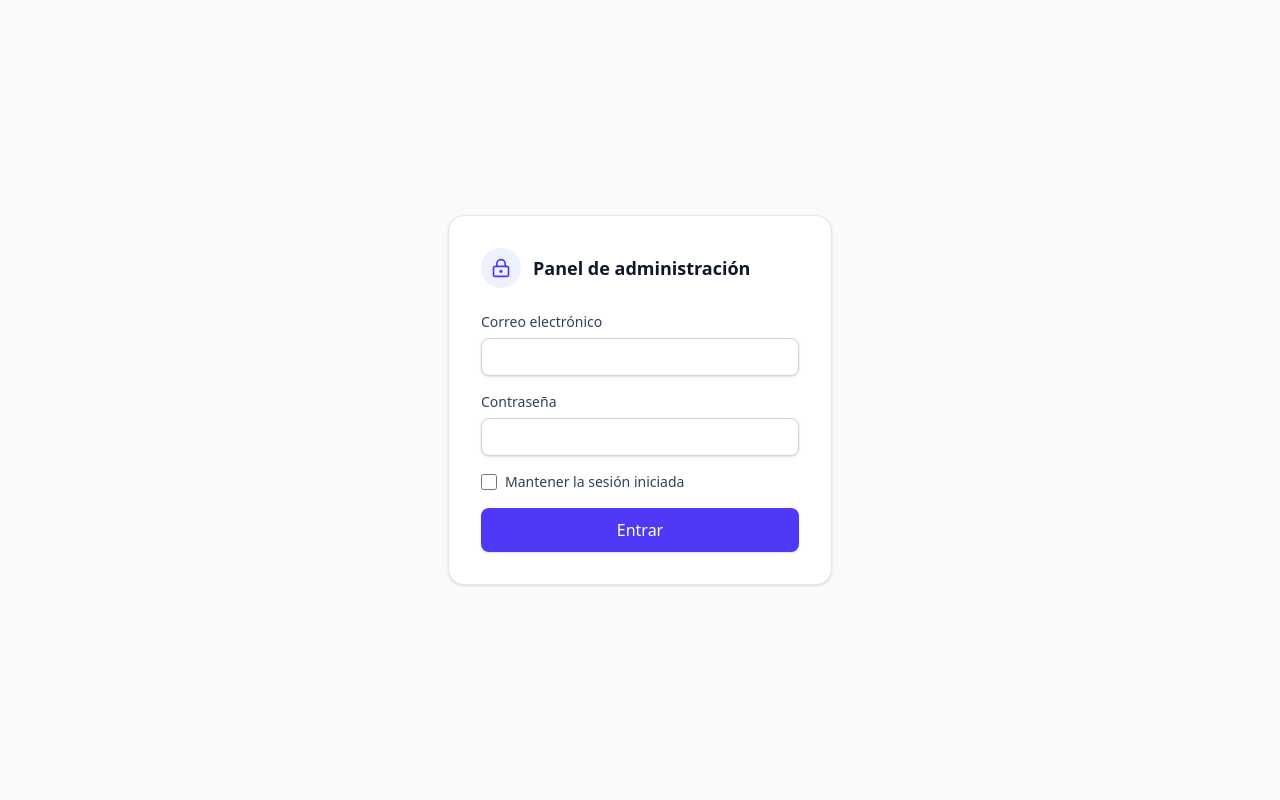
admin panel › signs in and returns to the requested page
Type "admin@example.test" into the field labelled "Correo electrónico" at [640, 357], box [481,338,799,376]
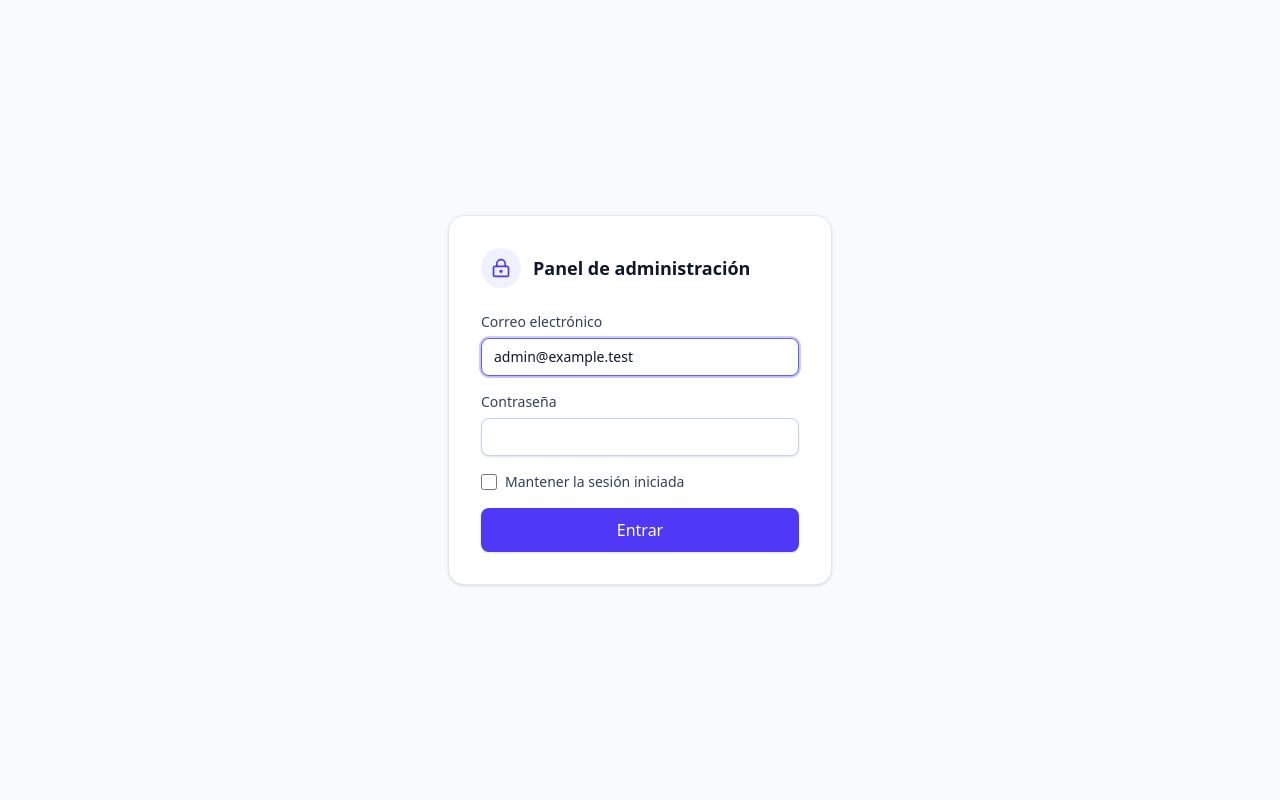
Type "secret" into the password field labelled "Contraseña" at [640, 437], box [481,418,799,456]
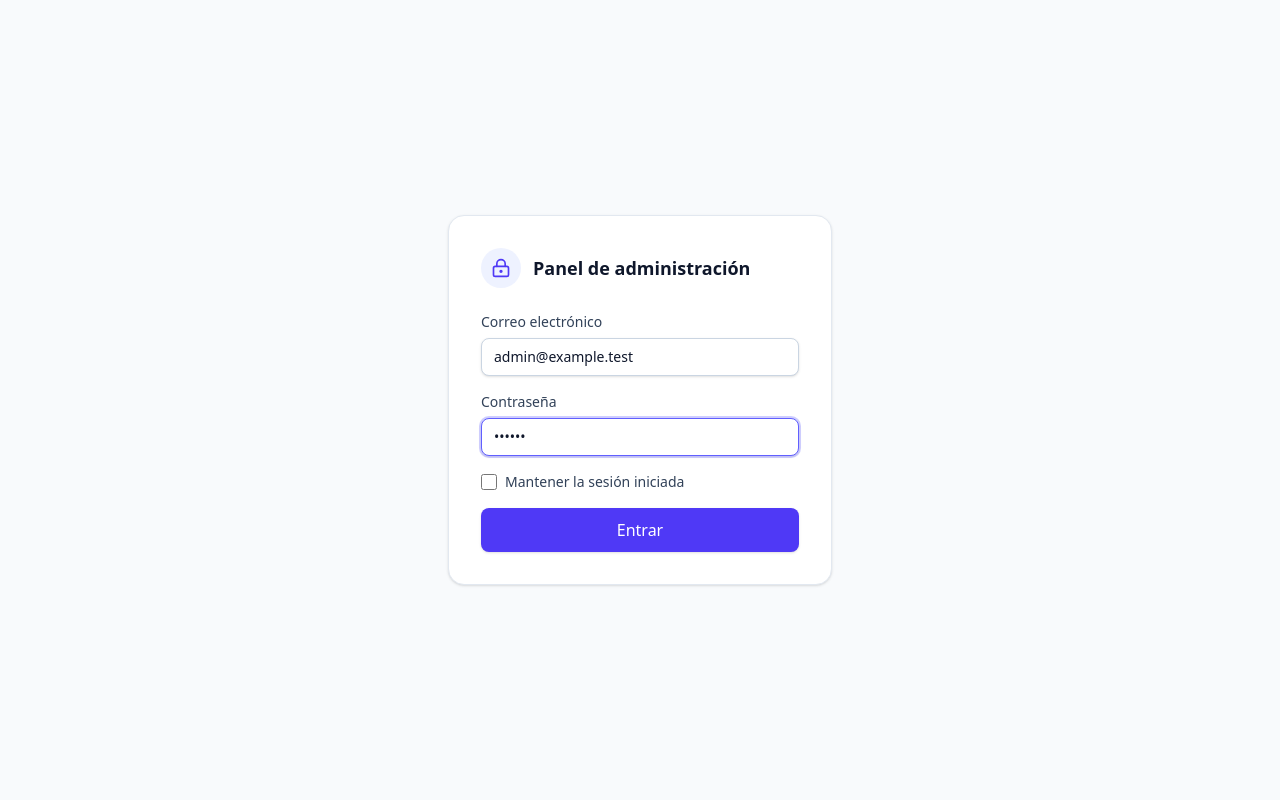
Click the button "Entrar" at [640, 530], box [481,508,799,552]
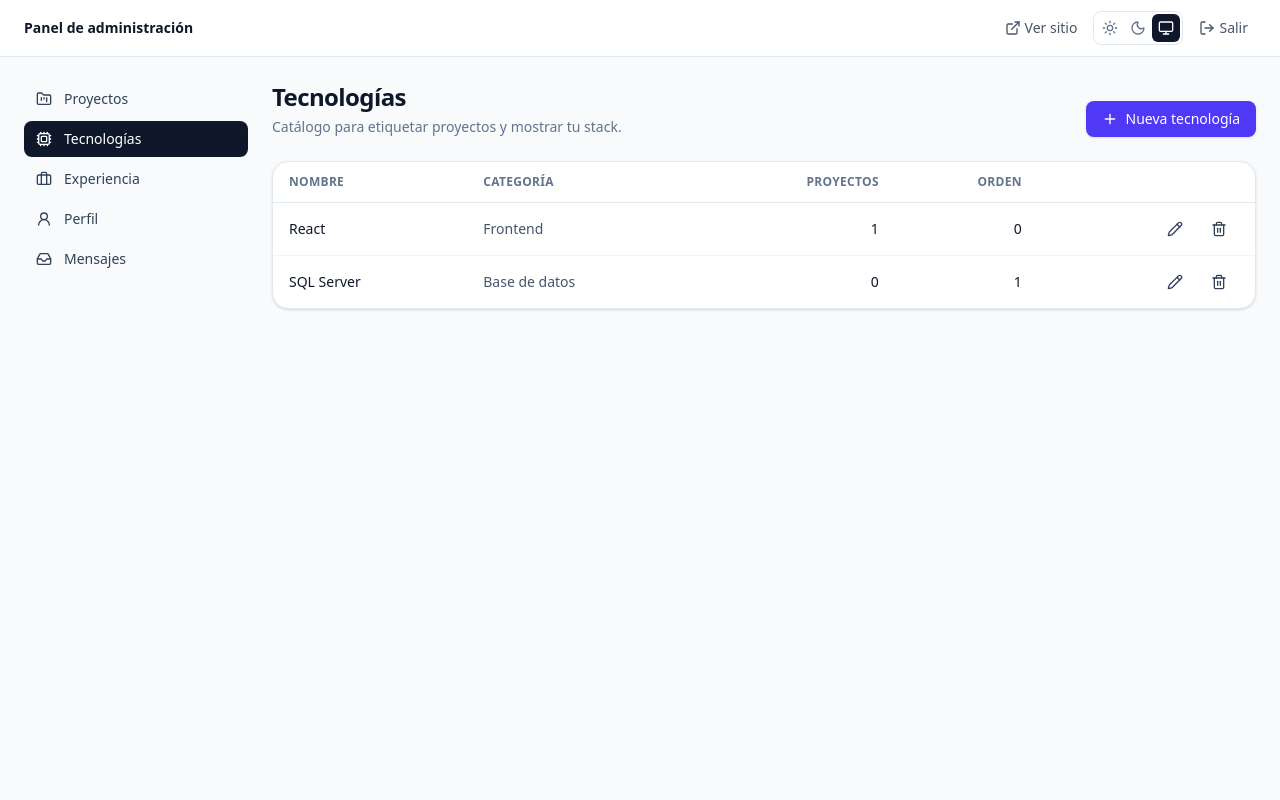
Check: the heading "Tecnologías" is shown, box [272,80,406,113]
